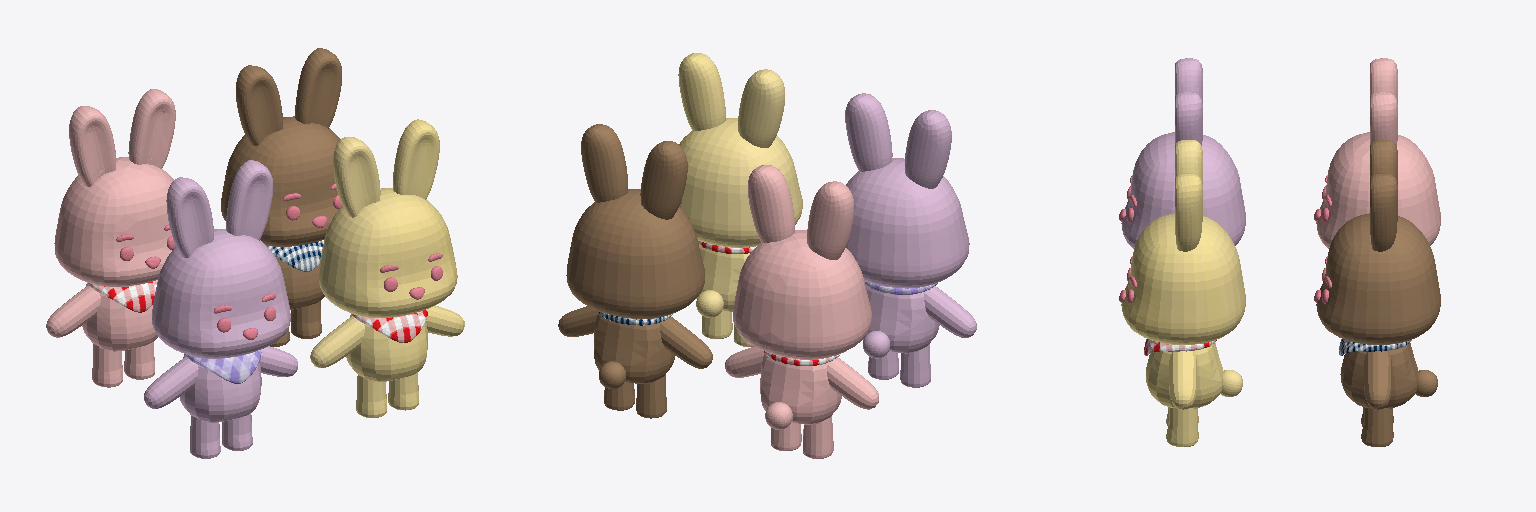
3 renders of one model, left to right at view 1: azimuth 30°, elevation 25°; view 2: azimuth 150°, elevation 25°; view 3: azimuth 270°, elevation 25°, orthographic.
Parts seen in each view (by area): view 1: bunny1_eyebrow001; view 2: bunny1_eyebrow001; view 3: bunny1_eyebrow001.
Part boxes in pixels (x1,y1,x2,y2): bunny1_eyebrow001: (46,48,464,458); bunny1_eyebrow001: (558,53,976,458); bunny1_eyebrow001: (1119,58,1440,446).
Size of the model in its own units: 10.66 by 8.89 by 9.35.
1 materials, 1 textured.